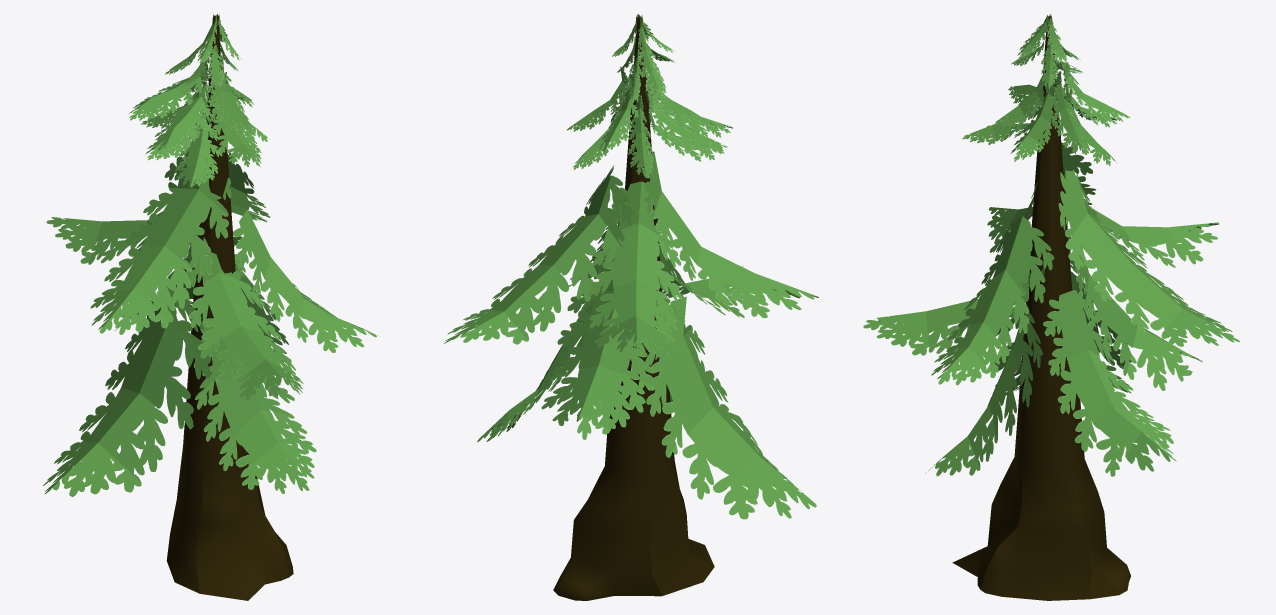
The model's file is Pine_tree_1.fbx.
3 renders of one model, left to right at view 1: azimuth 30°, elevation 25°; view 2: azimuth 150°, elevation 25°; view 3: azimuth 270°, elevation 25°, orthographic. The views are drawn at different scales.
Parts seen in each view (by area): view 1: pPlane46, pPlane47, pCube3, pPlane53, pPlane48, pPlane51, pPlane49, pPlane52; view 2: pPlane47, pPlane46, pCube3, pPlane51, pPlane48, pPlane53, pPlane49, pPlane52; view 3: pCube3, pPlane47, pPlane46, pPlane48, pPlane53, pPlane51, pPlane49, pPlane52.
Part boxes in pixels (x1,y1,x2,y2): pPlane46: (43, 235, 316, 496); pPlane47: (46, 150, 377, 352); pCube3: (166, 15, 293, 600); pPlane53: (185, 237, 303, 399); pPlane48: (141, 72, 267, 187); pPlane51: (128, 55, 253, 160); pPlane49: (165, 14, 241, 74); pPlane52: (185, 35, 237, 86); pPlane47: (444, 151, 818, 354); pPlane46: (477, 248, 816, 519); pCube3: (553, 16, 714, 600); pPlane51: (567, 61, 723, 155); pPlane48: (573, 73, 732, 178); pPlane53: (658, 243, 751, 317); pPlane49: (612, 14, 674, 97); pPlane52: (617, 36, 674, 103); pCube3: (952, 16, 1130, 600); pPlane47: (931, 142, 1239, 385); pPlane46: (925, 236, 1202, 476); pPlane48: (962, 81, 1117, 165); pPlane53: (863, 264, 1047, 355); pPlane51: (994, 57, 1130, 154); pPlane49: (1017, 14, 1080, 63); pPlane52: (1011, 41, 1079, 88).
Bounding box in the file's own units: 676 × 1136 × 749.
Materials: 2 (1 with a texture image).
